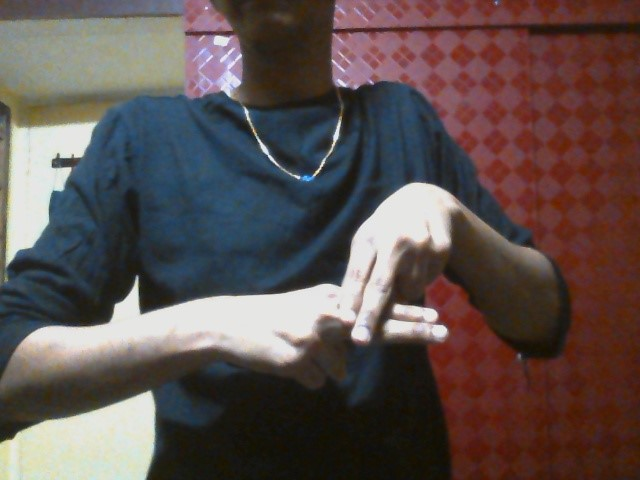F: (231, 184, 453, 396)
